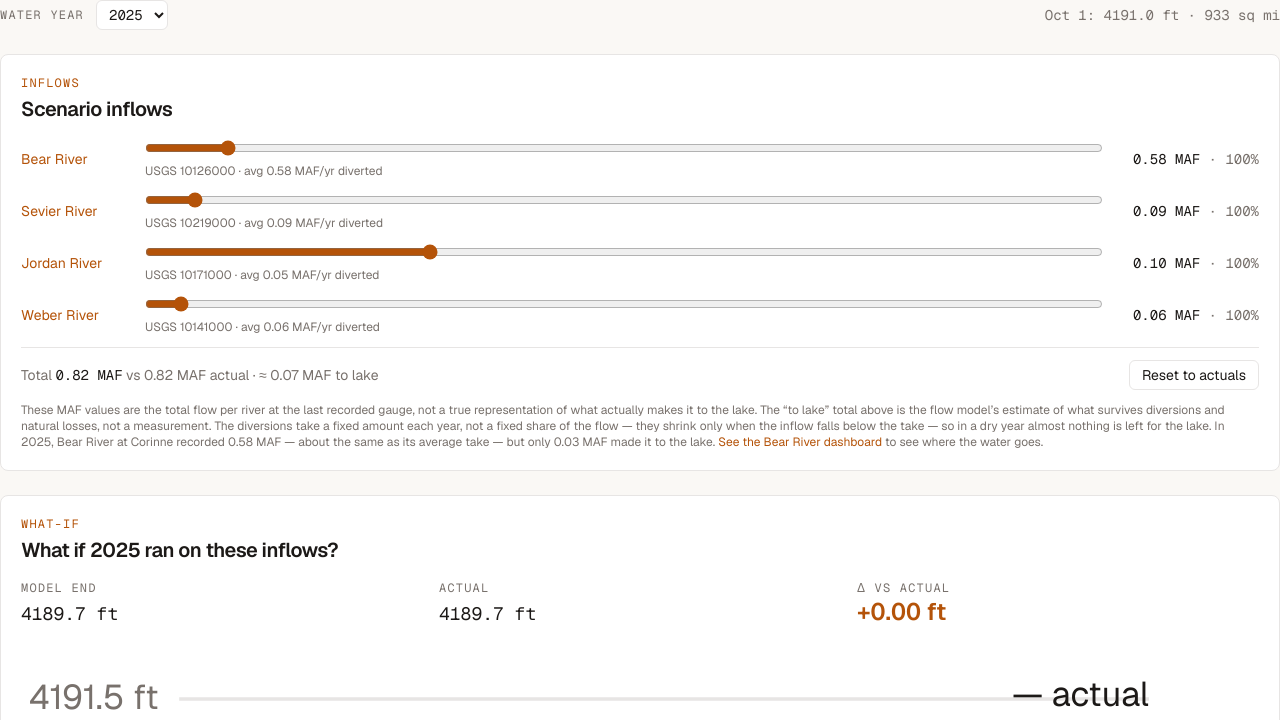
Test: WaterDashboard › a partial year clears the projection and shows a note
Select "2026" in the dropdown labelled "Water year": (132, 15) 96,0 -> 168,30
(page scrolled)
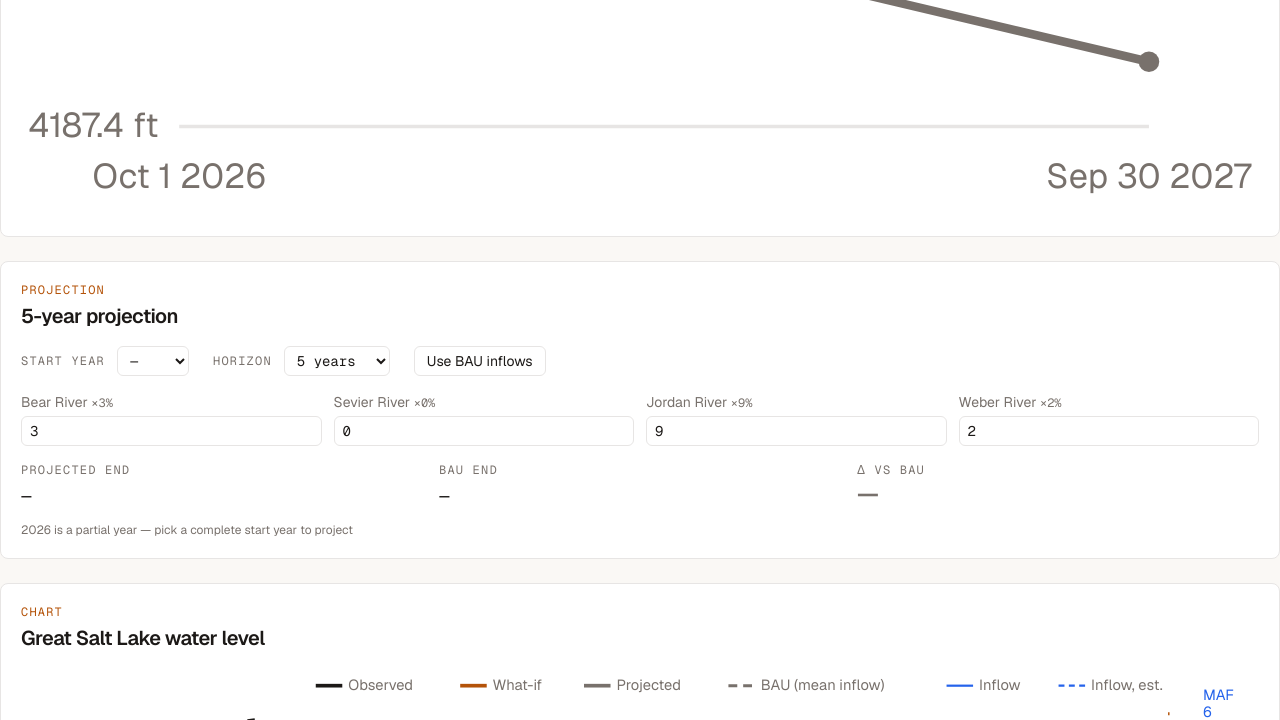
Now the dropdown labelled "Start year" shows "—", box 117,346 -> 189,376
Now the text "pick a complete start year" is shown, box 21,522 -> 353,538
